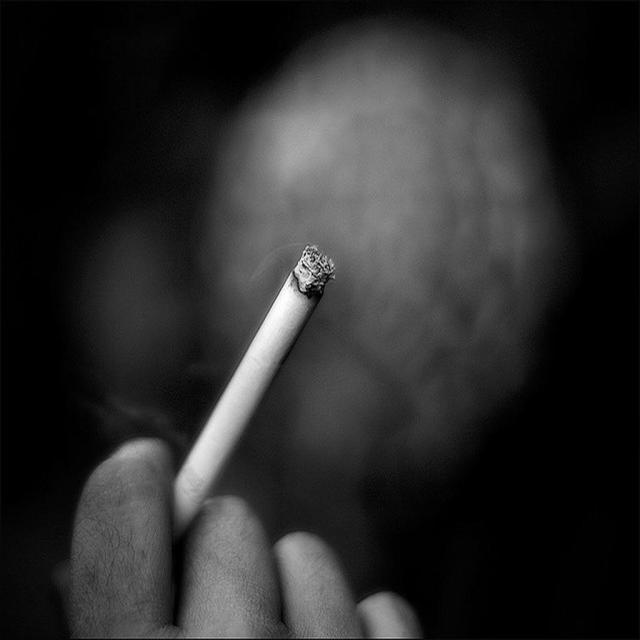smoking: (169, 241, 337, 540)
